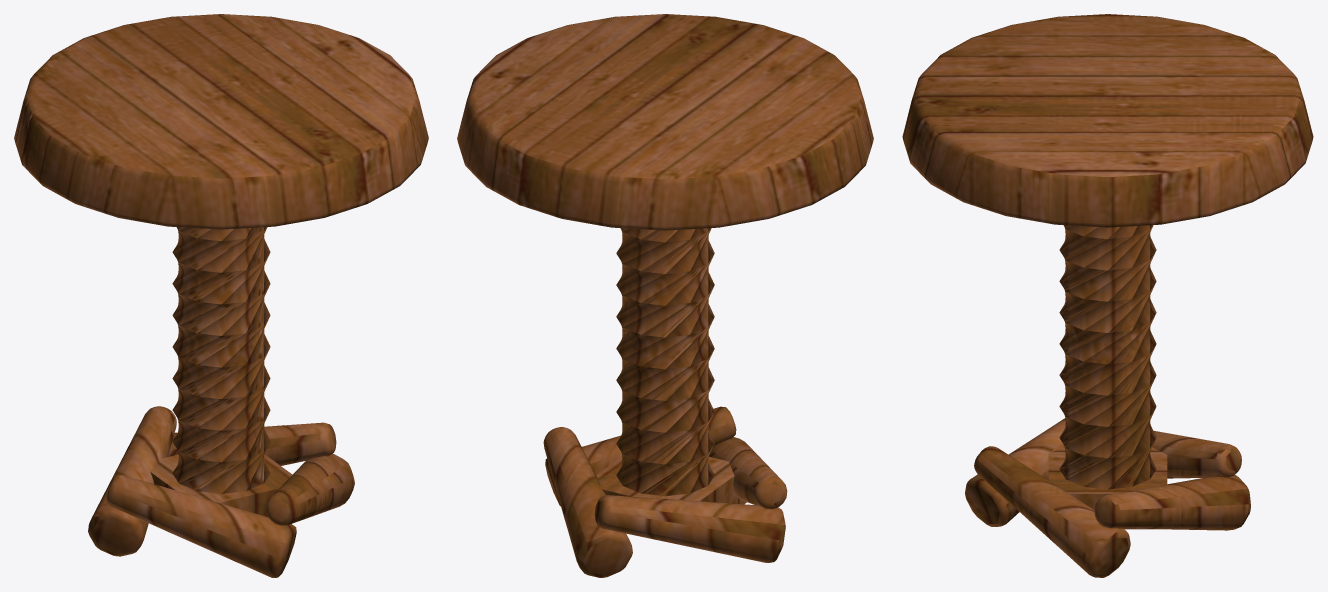
The model's file is Antique_Chair_04.fbx.
The picture shows the model from 3 angles, left to right: view 1: azimuth 30°, elevation 25°; view 2: azimuth 150°, elevation 25°; view 3: azimuth 270°, elevation 25°; orthographic projection.
Visible parts, largest first — view 1: Antique_Chair; view 2: Antique_Chair; view 3: Antique_Chair.
Part boxes in pixels (left/top/right/bottom): Antique_Chair: left=14, top=14, right=428, bottom=577; Antique_Chair: left=457, top=14, right=873, bottom=577; Antique_Chair: left=902, top=14, right=1313, bottom=577.
Size of the model in its own units: 0.4657 by 0.5424 by 0.4657.
1 material, 1 textured.
